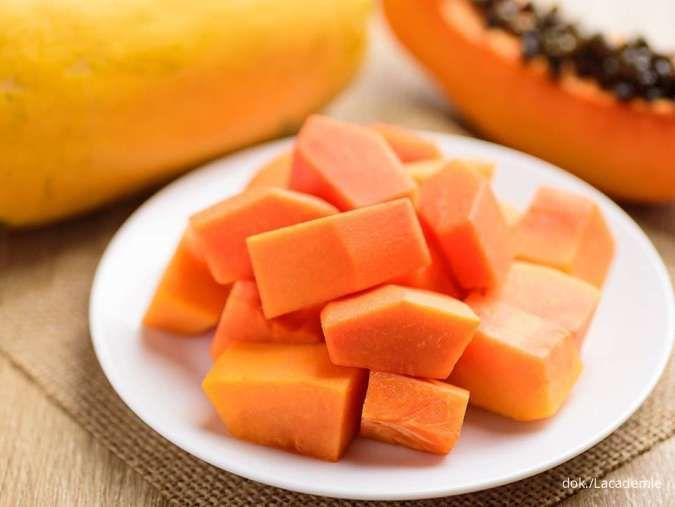buah_sayur_vitA: (243, 170, 490, 407)
